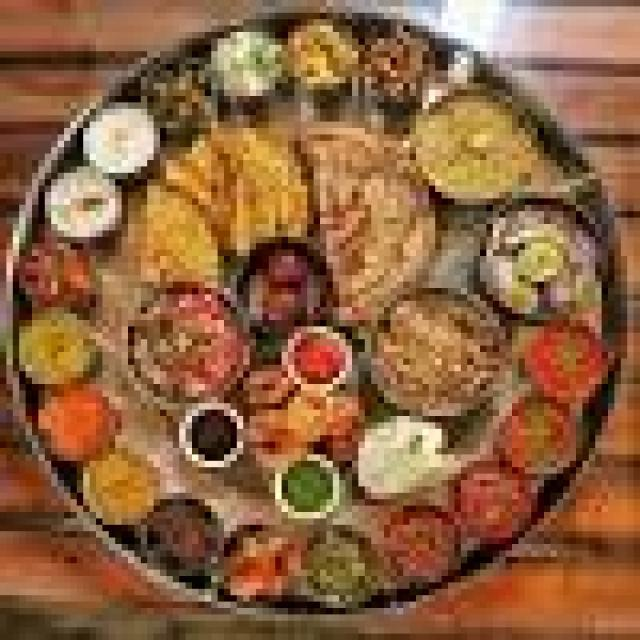dal: (417, 97, 538, 206), (10, 305, 110, 391)
rice: (364, 288, 516, 417), (121, 280, 260, 407), (10, 308, 110, 386)
sweet: (483, 215, 590, 322), (236, 237, 335, 333), (168, 394, 259, 484), (513, 321, 612, 402), (30, 382, 124, 466), (490, 397, 584, 478), (10, 235, 91, 309), (274, 324, 363, 390)
